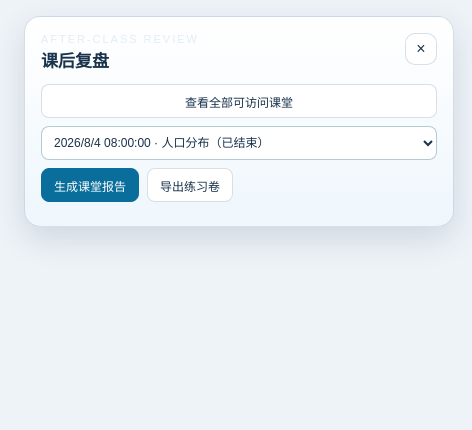
it: ReportPanel › exports practice papers with student and teacher downloads
This screenshot has width=472, height=430.
Click the button with test id "export-practice" at (190, 185), box top-left (147, 168), bottom-right (233, 202)
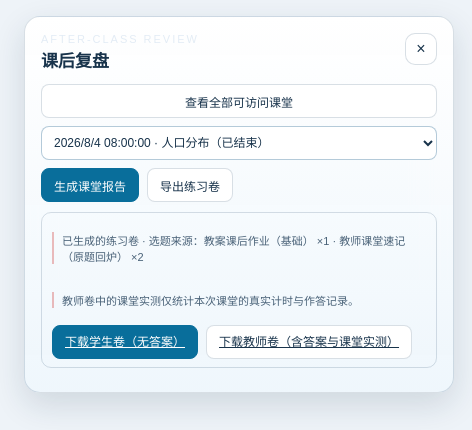
Expected: the element with test id "practice-export-result" is shown, top-left (41, 212), bottom-right (437, 368)
Expected: the link "下载学生卷（无答案）" is shown, top-left (52, 325), bottom-right (198, 359)
Expected: the link "下载教师卷（含答案与课堂实测）" is shown, top-left (206, 325), bottom-right (412, 359)
